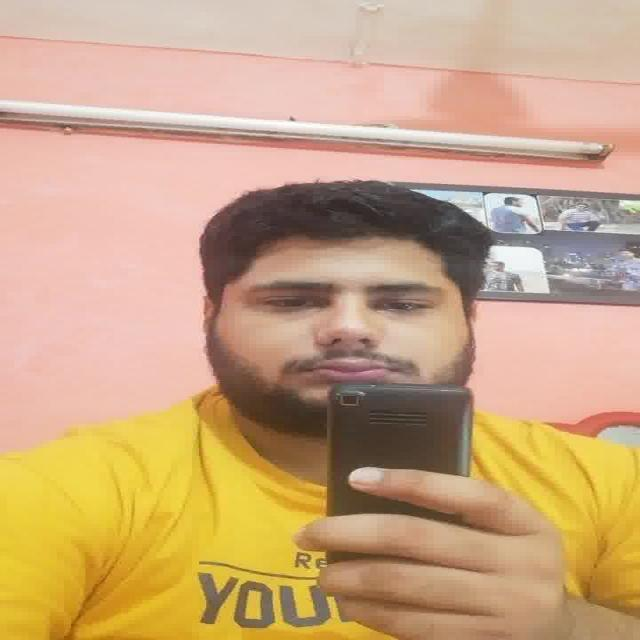Phone: (326, 383, 475, 515)
